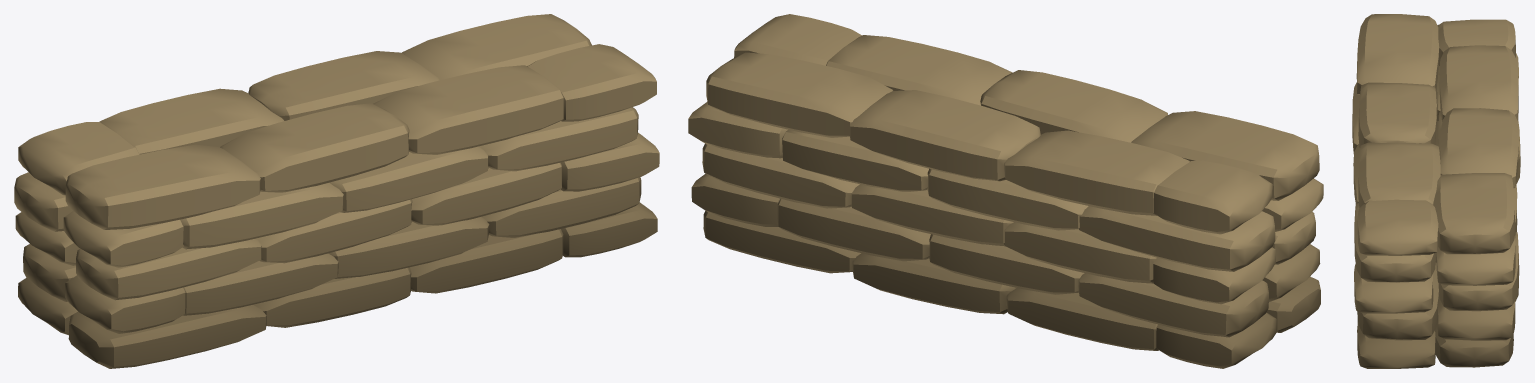
File: sandbag_wall_low_2m.glb
3 views of the same model, side by side, from view 1: azimuth 30°, elevation 25°; view 2: azimuth 150°, elevation 25°; view 3: azimuth 270°, elevation 25° (orthographic). The views are drawn at different scales.
Visible parts, largest first — view 1: sandbag_wall_low_2m_LOD0; view 2: sandbag_wall_low_2m_LOD0; view 3: sandbag_wall_low_2m_LOD0.
Part boxes in pixels (x1,y1,x2,y2): sandbag_wall_low_2m_LOD0: (14,14,659,368); sandbag_wall_low_2m_LOD0: (688,14,1323,368); sandbag_wall_low_2m_LOD0: (1352,14,1520,368).
Size of what is drawn, in the model's own units: 2.09 by 0.6207 by 0.6522.
